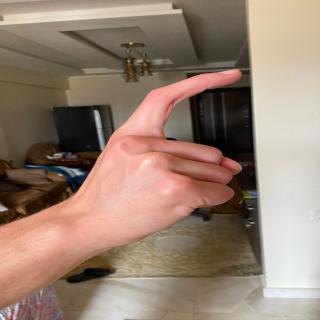RAA: (61, 62, 286, 238)
